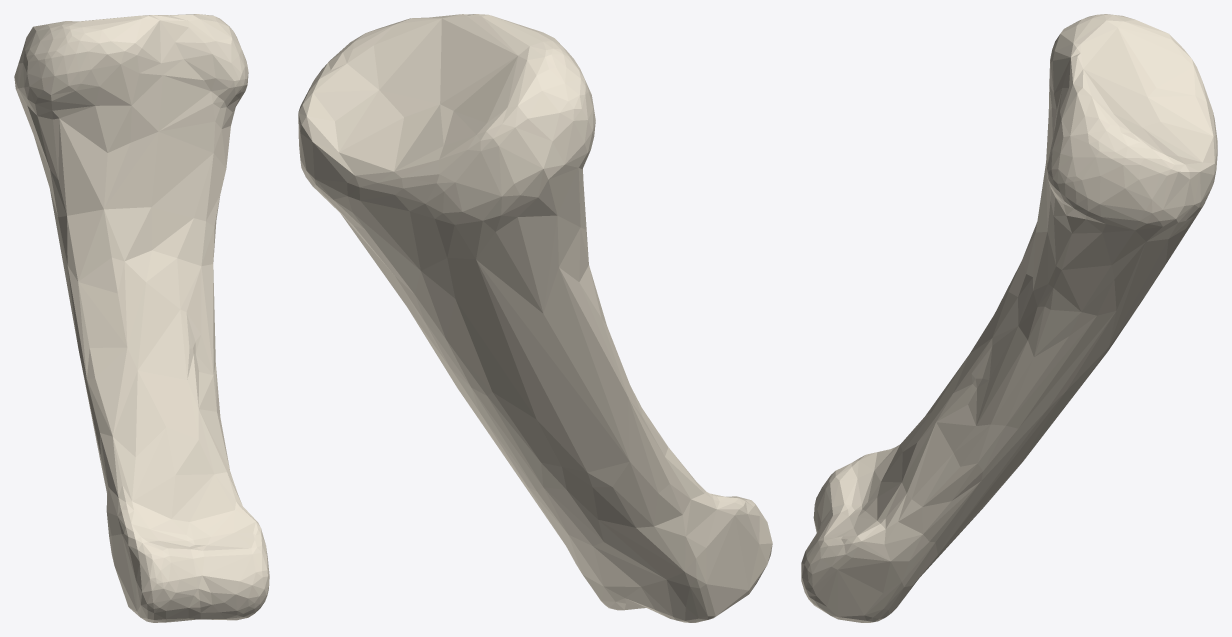
The model's file is left_little_proximal_phalanx.glb.
3 views of the same model, side by side, from view 1: azimuth 30°, elevation 25°; view 2: azimuth 150°, elevation 25°; view 3: azimuth 270°, elevation 25° (orthographic). The views are drawn at different scales.
Visible parts, largest first — view 1: left_little_proximal_phalanx; view 2: left_little_proximal_phalanx; view 3: left_little_proximal_phalanx.
Boxes of the visible parts, x1,y1,x2,y2 form: left_little_proximal_phalanx: [14, 14, 269, 622]; left_little_proximal_phalanx: [298, 14, 772, 622]; left_little_proximal_phalanx: [801, 14, 1217, 622].
Bounding box in the file's own units: 0.0144 × 0.0327 × 0.0211.
